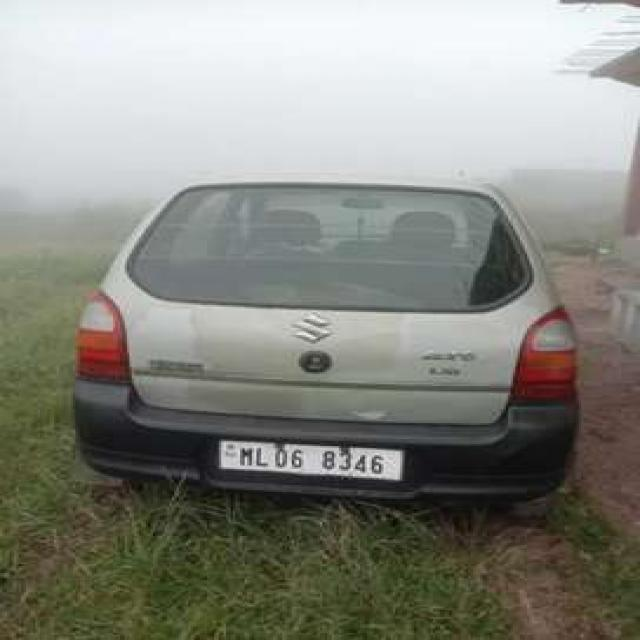license_plate: (210, 433, 417, 495)
